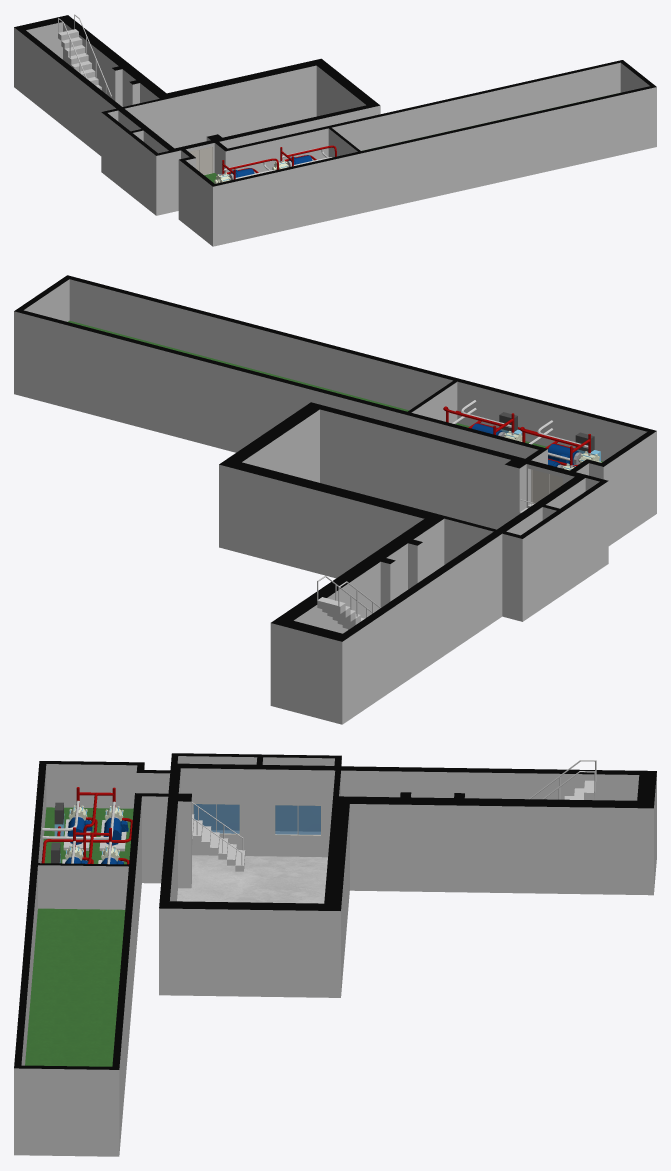
The picture shows the model from 3 angles, top to bottom: view 1: azimuth 30°, elevation 25°; view 2: azimuth 150°, elevation 25°; view 3: azimuth 270°, elevation 25°; orthographic projection. The views are drawn at different scales.
Parts seen in each view (by area): view 1: A3_B1F_벽, A3_B1F_계단, 라인, 소방펌프 (1), A3_B1F_양문; view 2: A3_B1F_벽, 라인, A3_B1F_계단, 소방펌프 (1), A3_B1F_바닥, A3_B1F_양문; view 3: A3_B1F_벽, A3_B1F_바닥, A3_B1F_창문, 라인, A3_B1F_계단, 소방펌프 (1).
Boxes of the visible parts, <box> form: A3_B1F_벽: <box>14,15,656,246</box>; A3_B1F_계단: <box>58,14,111,97</box>; 라인: <box>221,145,336,179</box>; 소방펌프 (1): <box>214,155,312,183</box>; A3_B1F_양문: <box>189,146,213,174</box>; A3_B1F_벽: <box>14,275,656,724</box>; 라인: <box>443,400,600,468</box>; A3_B1F_계단: <box>317,499,535,629</box>; 소방펌프 (1): <box>472,423,601,470</box>; A3_B1F_바닥: <box>68,320,602,462</box>; A3_B1F_양문: <box>531,469,562,504</box>; A3_B1F_벽: <box>14,753,656,1156</box>; A3_B1F_바닥: <box>25,807,327,1066</box>; A3_B1F_창문: <box>193,803,321,836</box>; 라인: <box>41,787,132,864</box>; A3_B1F_계단: <box>192,760,596,871</box>; 소방펌프 (1): <box>62,805,128,864</box>.
Bounding box in the file's own units: 31.29 × 5.26 × 26.84.
13 materials, 2 textured.
